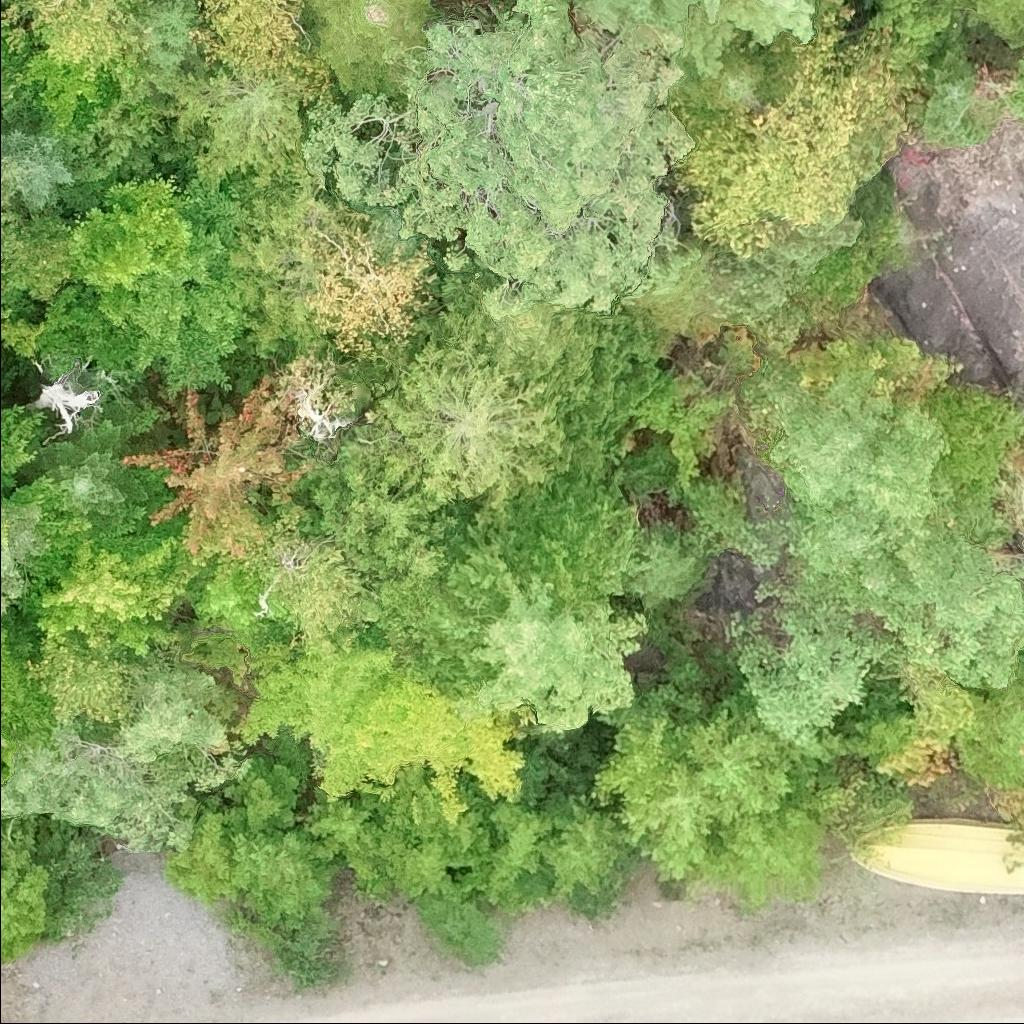crown: (296, 0, 706, 323), (724, 372, 1023, 748), (664, 12, 921, 255), (227, 638, 532, 824), (37, 171, 255, 401), (339, 305, 574, 510), (116, 371, 312, 564), (453, 570, 647, 733), (0, 724, 199, 853), (221, 172, 343, 362), (302, 202, 435, 355), (569, 0, 821, 80), (34, 532, 188, 659), (19, 396, 159, 531), (163, 64, 307, 192), (113, 667, 253, 793), (195, 0, 336, 104), (299, 0, 433, 107), (676, 700, 793, 820), (791, 325, 969, 402), (224, 827, 338, 927), (917, 378, 1023, 485), (275, 544, 377, 655), (0, 0, 156, 72), (709, 802, 822, 894), (535, 800, 625, 900), (163, 804, 251, 902), (23, 44, 103, 138), (0, 121, 76, 211), (915, 43, 980, 148), (0, 403, 47, 547), (135, 0, 205, 94), (221, 754, 306, 831), (0, 847, 53, 964), (0, 156, 39, 292), (966, 0, 1023, 49), (0, 302, 48, 358), (984, 780, 1023, 840), (1019, 743, 1023, 757)
